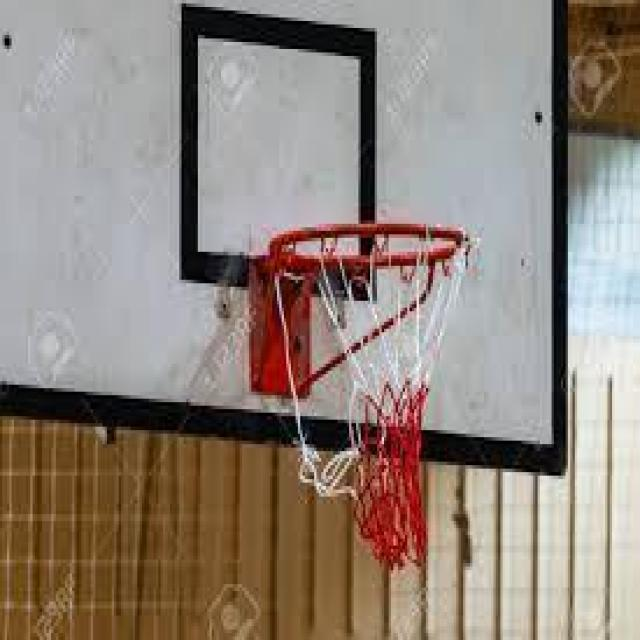rim: (270, 220, 468, 563)
